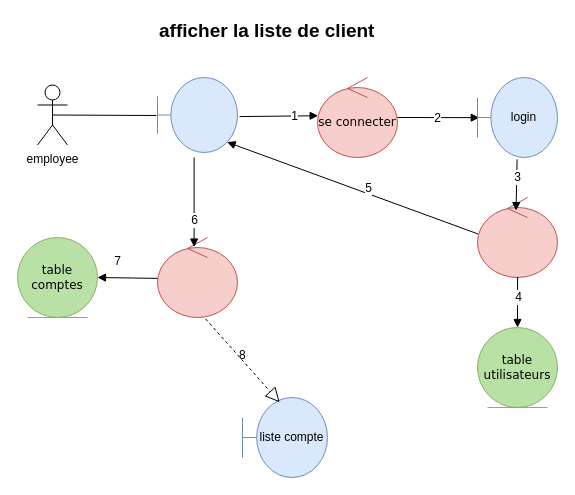
Image size: 575x495. Some labels were removed from this diagram. The shapes that lost their labels are listed below. From the top down, each one's centre as x and y in pixels, then its label:
At (197,114): "accueil".
At (517,237): "valider si la compte existe".
At (197,277): "afficher liste de comptes".
